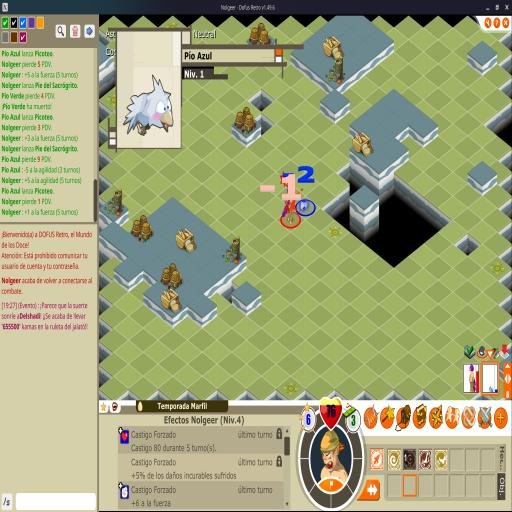Enemigos: (299, 199, 309, 211)
Personaje: (282, 191, 299, 223)
